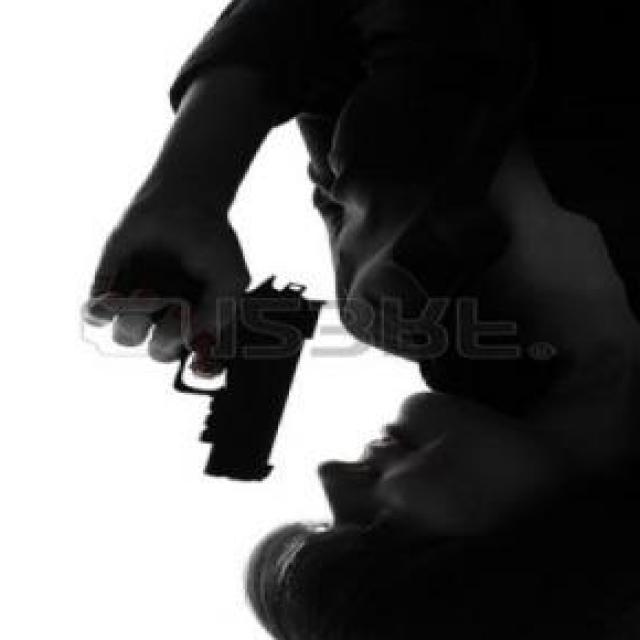pistol: (66, 253, 333, 494)
